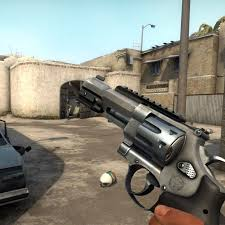gun: (80, 71, 223, 212)
